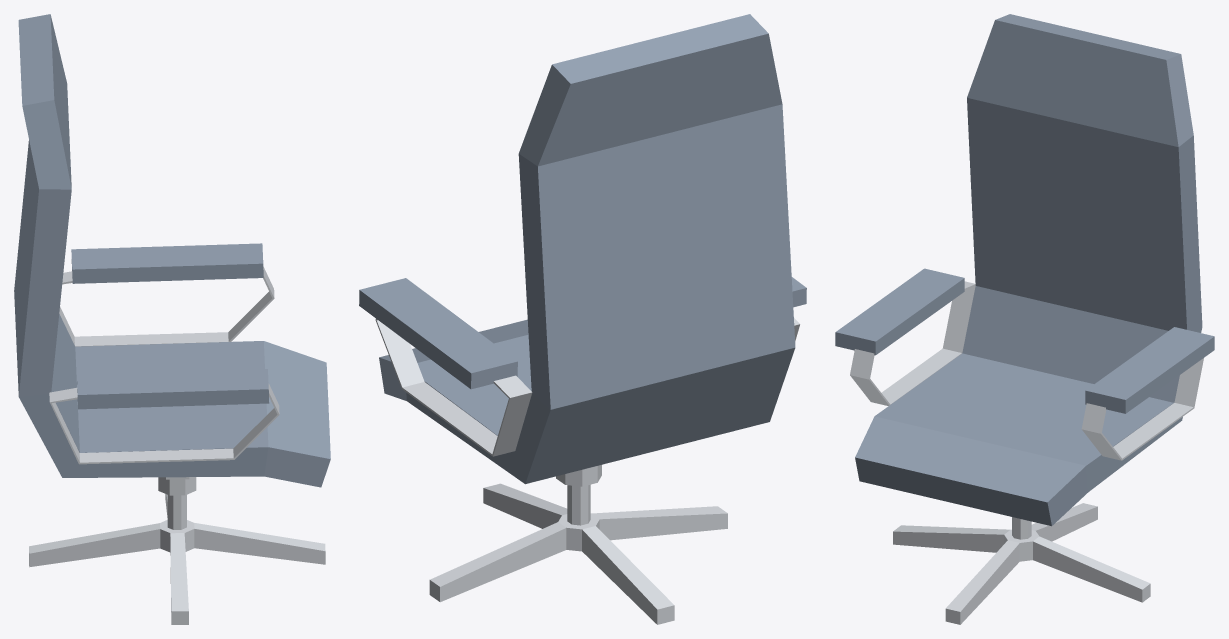
The model's file is base_chair.gltf.
3 renders of one model, left to right at view 1: azimuth 30°, elevation 25°; view 2: azimuth 150°, elevation 25°; view 3: azimuth 270°, elevation 25°, orthographic. The views are drawn at different scales.
Parts seen in each view (by area): view 1: Plane.013, Plane.014; view 2: Plane.013, Plane.014; view 3: Plane.013, Plane.014.
Boxes of the visible parts, box(x1,y1,x2,y2) form: Plane.013: box(14, 14, 330, 624); Plane.014: box(49, 243, 279, 464); Plane.013: box(379, 14, 795, 624); Plane.014: box(359, 277, 806, 456); Plane.013: box(855, 14, 1202, 624); Plane.014: box(835, 268, 1214, 460).
Size of the model in its own units: 2.25 by 3.22 by 2.27.
